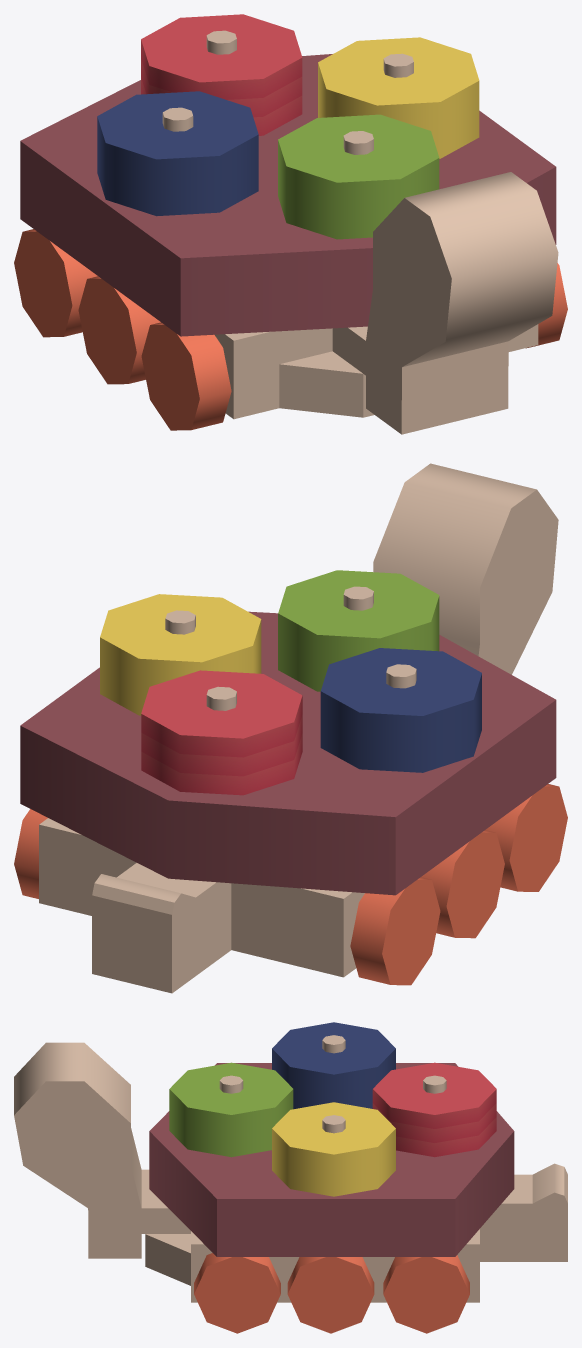
The model's file is SM_Pull_Turtle_Toy_01.fbx.
3 views of the same model, one above another, from view 1: azimuth 30°, elevation 25°; view 2: azimuth 150°, elevation 25°; view 3: azimuth 270°, elevation 25° (orthographic). The views are drawn at different scales.
Visible parts, largest first — view 1: SM_Pull_Turtle_Toy_01; view 2: SM_Pull_Turtle_Toy_01; view 3: SM_Pull_Turtle_Toy_01.
Boxes of the visible parts, x1,y1,x2,y2 form: SM_Pull_Turtle_Toy_01: (14,14,567,434); SM_Pull_Turtle_Toy_01: (14,463,567,993); SM_Pull_Turtle_Toy_01: (14,1022,567,1333).
Bounding box in the file's own units: 28.81 × 20.26 × 49.59.
